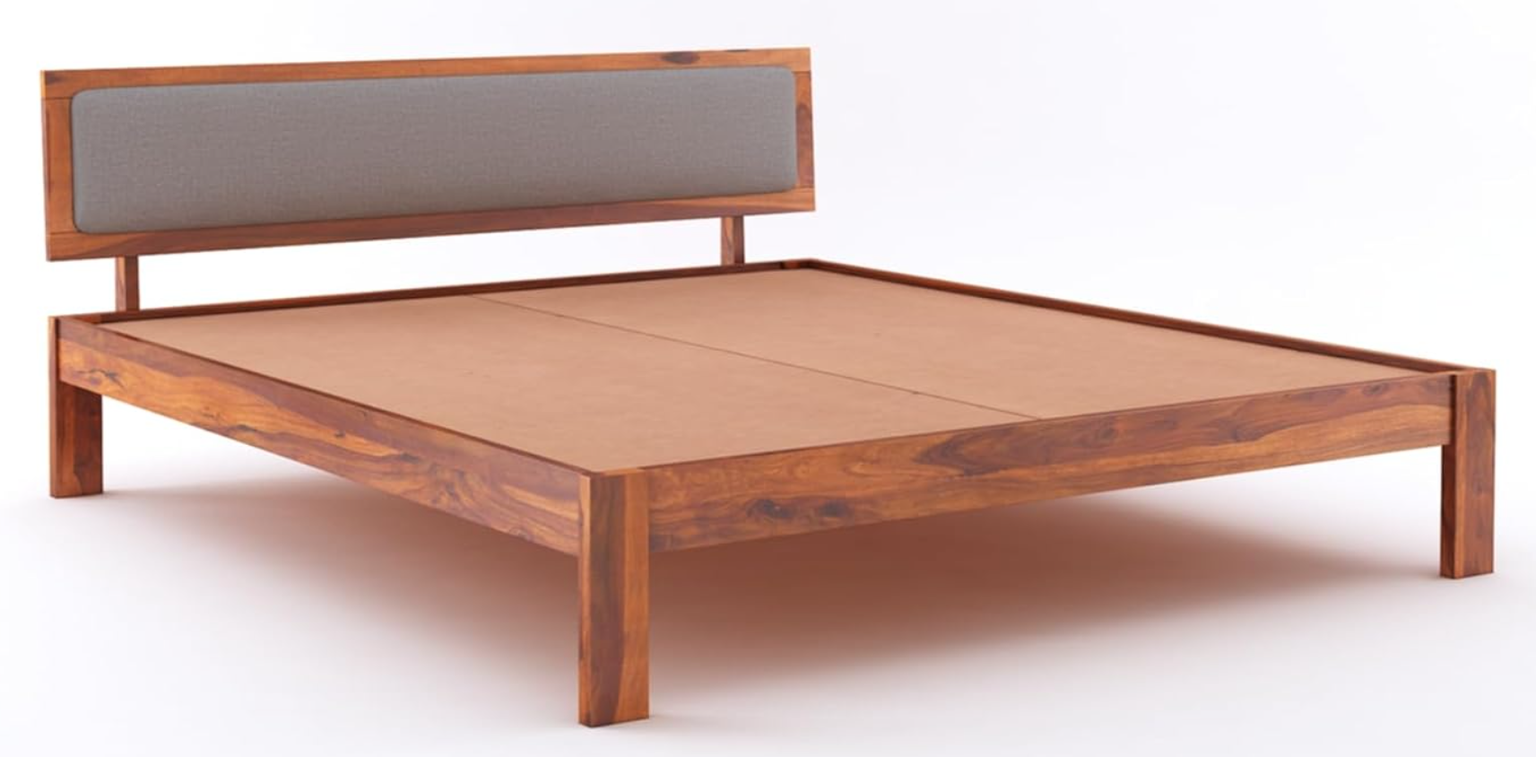cot: (27, 38, 1498, 757)
